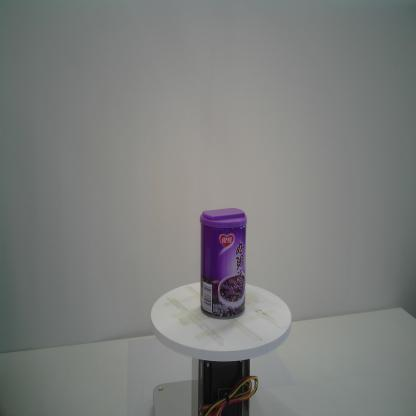Canned Food: (199, 207, 249, 320)
